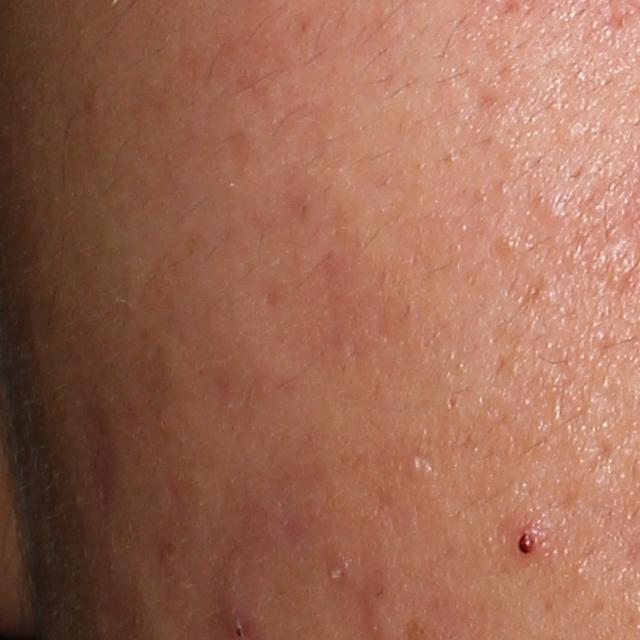atrophic_scar: (79, 385, 120, 516)
comedo: (493, 231, 523, 264), (407, 455, 429, 479)
papule: (505, 515, 558, 571)
